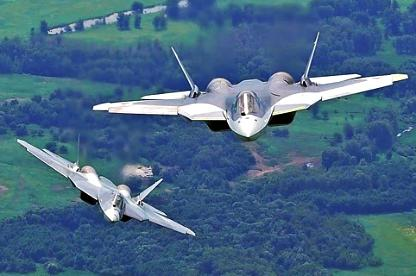SR71: (92, 30, 408, 140), (16, 133, 196, 235)
